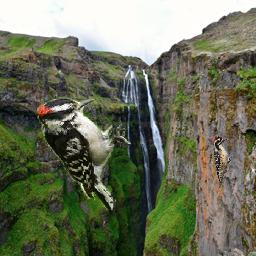Woodpecker: (37, 96, 131, 211), (213, 136, 232, 189)
